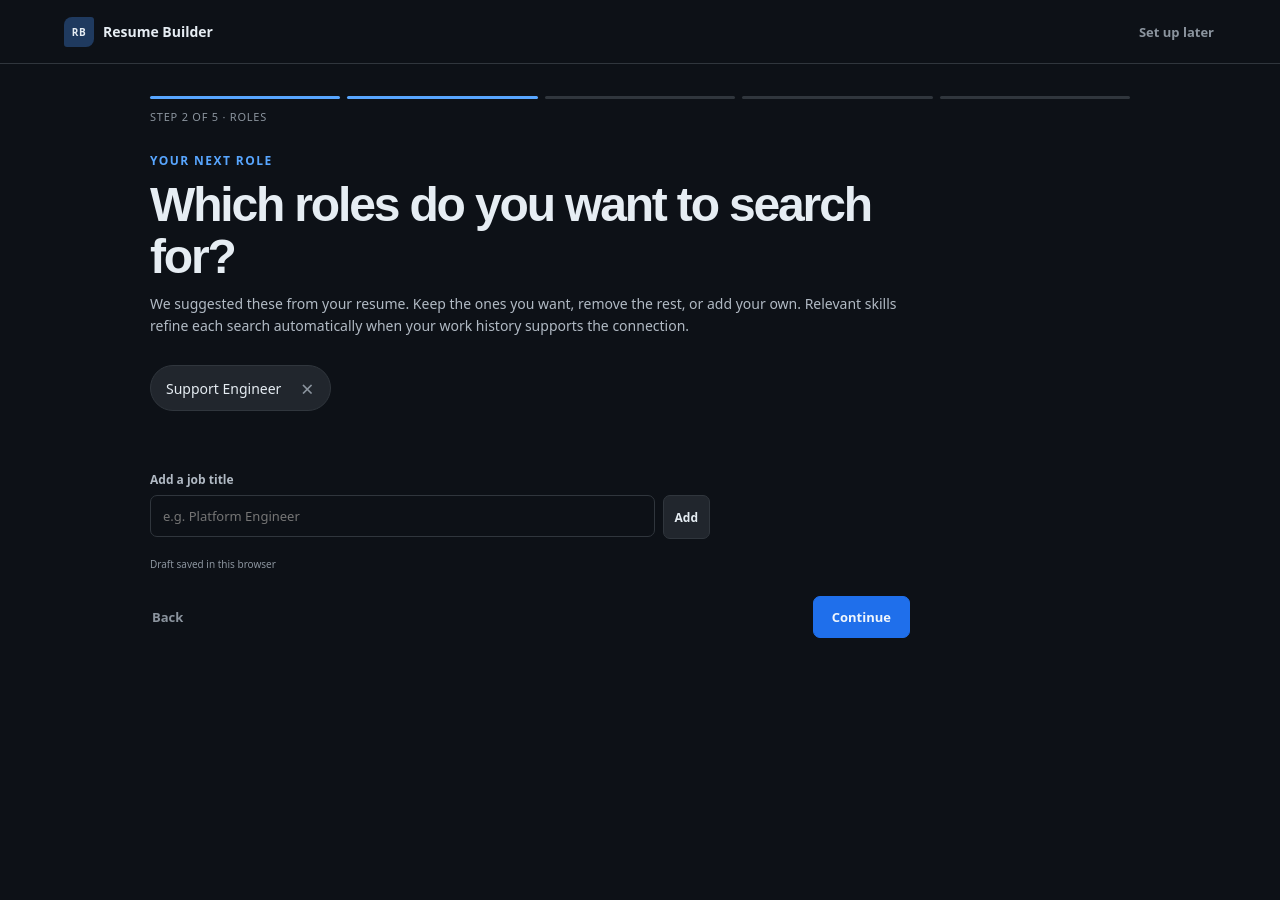
uses the backend transition when returning to the suggestion method
Click the button "Back": (168, 617) [150,599,185,635]
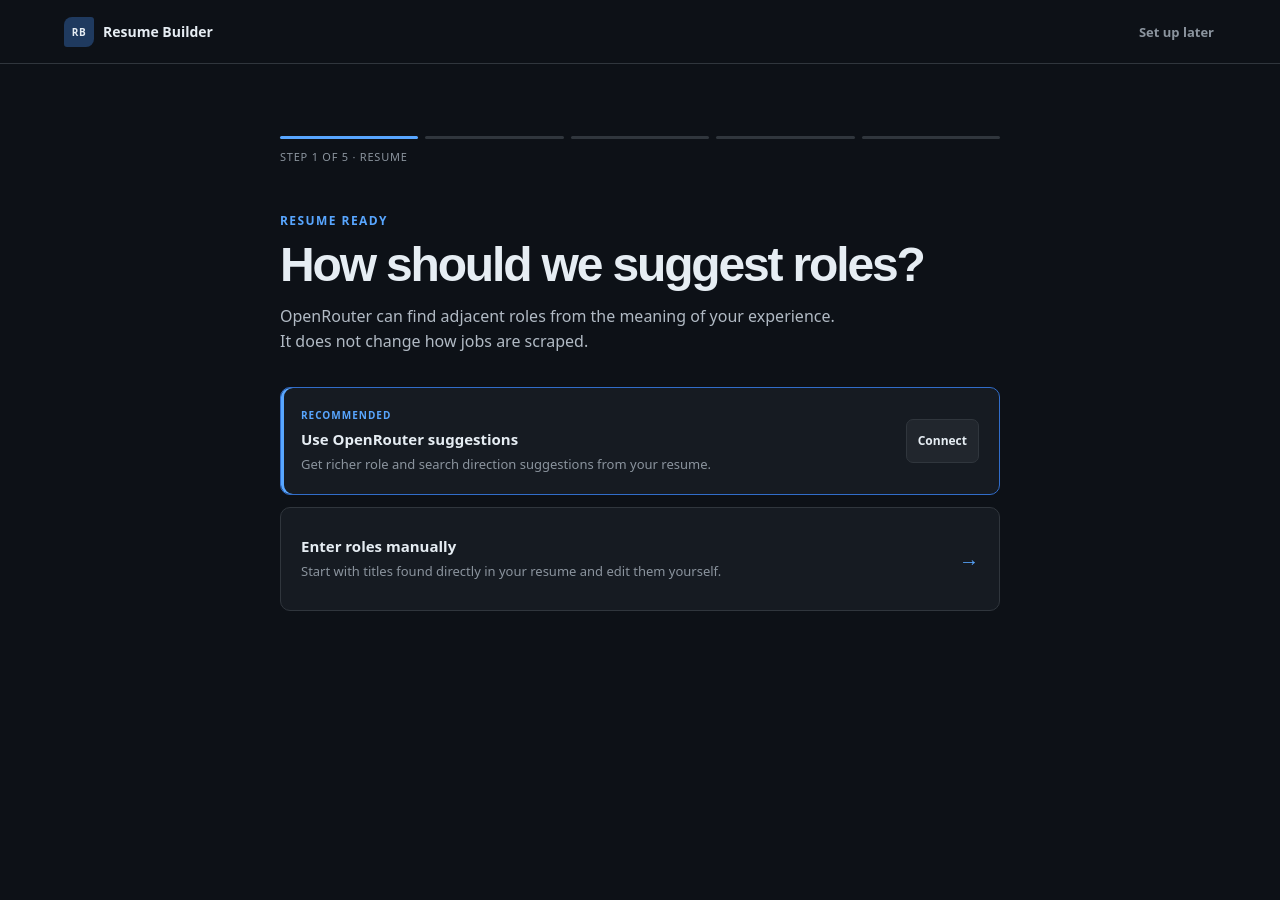
Check: the text "How should we suggest roles?" is shown, box [280,239,1000,291]
